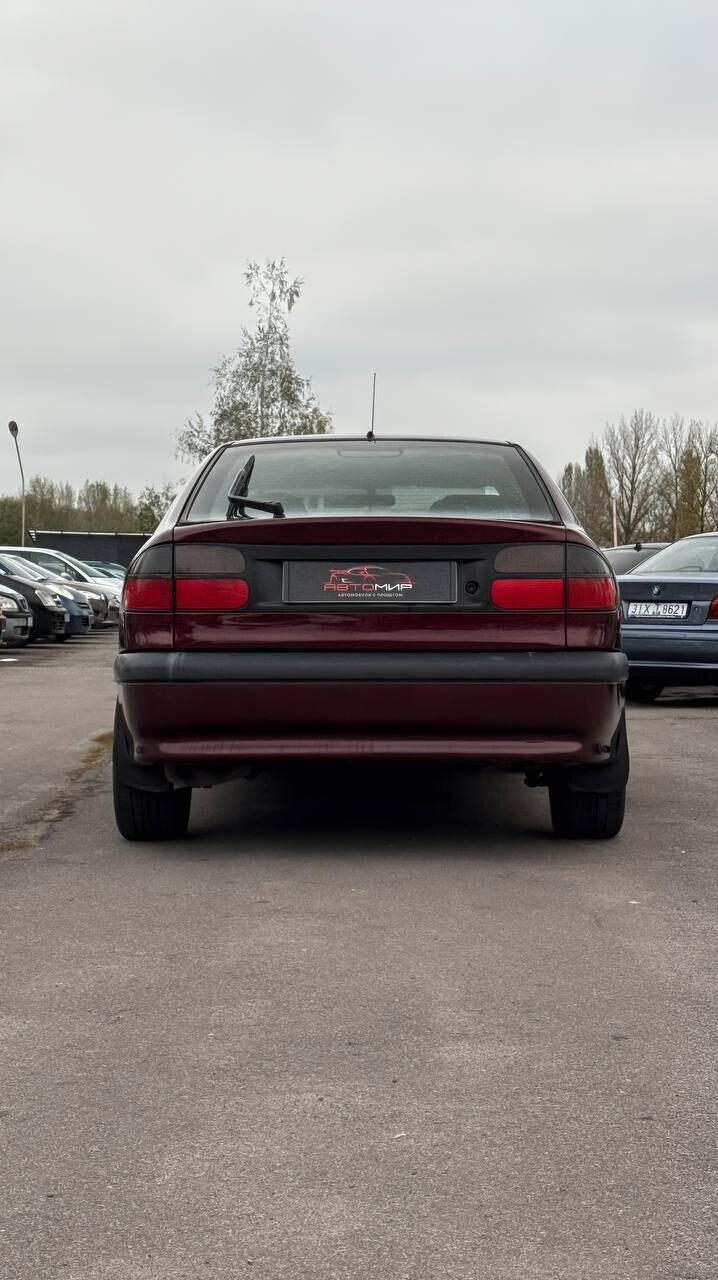Lahuna_1993-1999: (108, 422, 630, 842)
